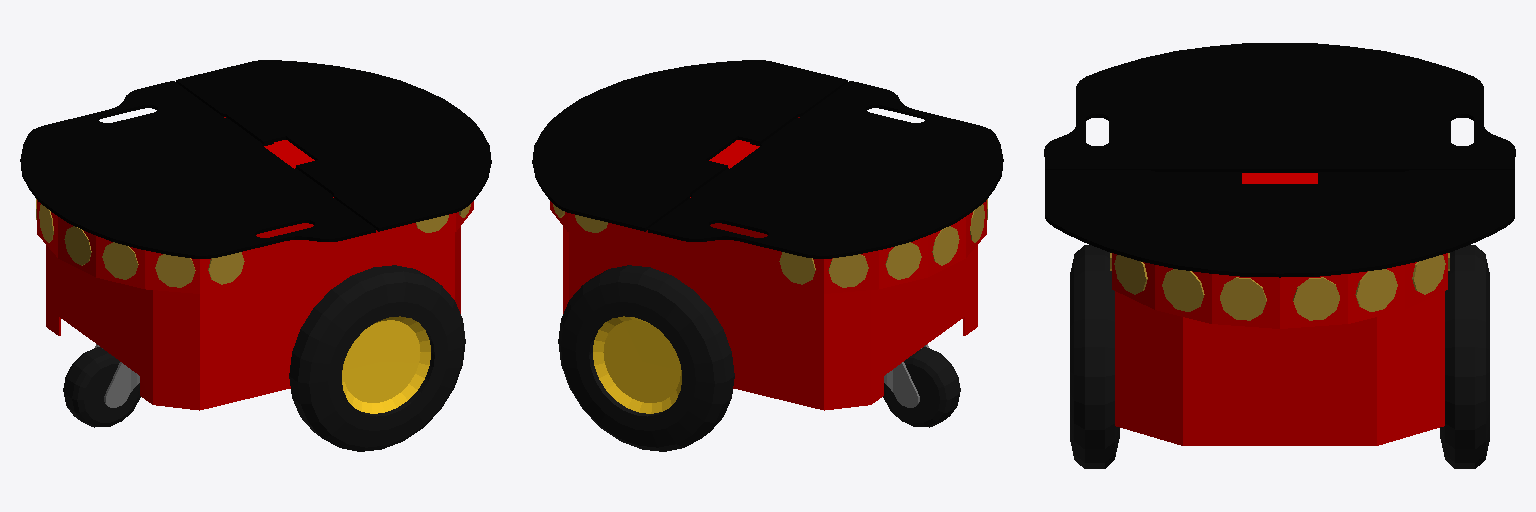
The robot description file, URDF, robot "pioneer3dx":
<?xml version="1.0" ?>
<!-- =================================================================================== -->
<!-- |    This document was autogenerated by xacro from pioneer3dx.urdf.xacro          | -->
<!-- |    EDITING THIS FILE BY HAND IS NOT RECOMMENDED                                 | -->
<!-- =================================================================================== -->
<robot name="pioneer3dx" xmlns:controller="http://playerstage.sourceforge.net/gazebo/xmlschema/#controller" xmlns:interface="http://playerstage.sourceforge.net/gazebo/xmlschema/#interface" xmlns:sensor="http://playerstage.sourceforge.net/gazebo/xmlschema/#sensor" xmlns:xacro="http://ros.org/wiki/xacro">
  <!--<include filename="$(find amr_robots_description)/urdf/materials.xacro"/>-->
  <!-- Chassis -->
  <link name="base_link">
    <inertial>
      <mass value="3.5"/>
      <!--<origin xyz="-0.025 0 -0.223"/>-->
      <origin xyz="0 0 0"/>
      <inertia ixx="1" ixy="0" ixz="0" iyy="1" iyz="0" izz="1"/>
    </inertial>
    <visual>
      <origin rpy="0 0 0" xyz="-0.045 0 0.148"/>
      <geometry name="pioneer_geom">
        <mesh filename="package://amr_robots_description/meshes/p3dx_meshes/chassis.dae"/>
      </geometry>
      <material name="ChassisRed">
        <color rgba="0.851 0.0 0.0 1.0"/>
      </material>
    </visual>
    <collision>
      <origin rpy="0 0 0" xyz="0 0 0"/>
      <geometry>
        <box size="0.01 0.01 0.01"/>
      </geometry>
    </collision>
  </link>
  <link name="top_plate">
    <inertial>
      <mass value="0.01"/>
      <origin xyz="0 0 0"/>
      <inertia ixx="1" ixy="0" ixz="0" iyy="1" iyz="0" izz="1"/>
    </inertial>
    <visual name="pioneer_geom">
      <origin rpy="0 0 0" xyz="0 0 0"/>
      <geometry name="pioneer_geom">
        <mesh filename="package://amr_robots_description/meshes/p3dx_meshes/top.dae"/>
      </geometry>
      <material name="TopBlack">
        <color rgba="0.038 0.038 0.038 1.0"/>
      </material>
    </visual>
  </link>
  <gazebo reference="top_plate">
    <!-- material value="Gazebo/Black"/ -->
    <material>Gazebo/Black</material>
  </gazebo>
  <joint name="base_top_joint" type="fixed">
    <origin rpy="0 0 0" xyz="-0.045 0 0.234"/>
    <axis xzy="0 0 1"/>
    <parent link="base_link"/>
    <child link="top_plate"/>
  </joint>
  <link name="front_sonar">
    <inertial>
      <mass value="0.0001"/>
      <origin xyz="0 0 0"/>
      <inertia ixx="1" ixy="0" ixz="0" iyy="1" iyz="0" izz="1"/>
    </inertial>
    <visual name="pioneer_geom">
      <origin rpy="0 0 0" xyz="0 0 0"/>
      <geometry name="pioneer_geom">
        <mesh filename="package://amr_robots_description/meshes/p3dx_meshes/front_sonar.dae"/>
      </geometry>
      <material name="SonarYellow">
        <color rgba="0.715 0.583 0.210 1.0"/>
      </material>
    </visual>
    <collision>
      <origin rpy="0 0 0" xyz="0 0 0"/>
      <geometry>
        <box size="0 0 0"/>
      </geometry>
    </collision>
  </link>
  <gazebo reference="front_sonar">
    <material value="Gazebo/Yellow"/>
  </gazebo>
  <joint name="base_front_joint" type="fixed">
    <origin rpy="0 0 0" xyz="-0.198 0 0.208"/>
    <parent link="base_link"/>
    <child link="front_sonar"/>
  </joint>
  <joint name="base_back_joint" type="fixed">
    <origin rpy="0 0 0" xyz="0.109 0 0.209"/>
    <parent link="base_link"/>
    <child link="back_sonar"/>
  </joint>
  <link name="back_sonar">
    <inertial>
      <mass value="0"/>
      <origin xyz="0 0 0"/>
      <inertia ixx="1" ixy="0" ixz="0" iyy="1" iyz="0" izz="1"/>
    </inertial>
    <visual name="base_visual">
      <origin rpy="0 0 0" xyz="0 0 0"/>
      <geometry name="pioneer_geom">
        <mesh filename="package://amr_robots_description/meshes/p3dx_meshes/back_sonar.dae"/>
      </geometry>
      <material name="SonarYellow">
        <color rgba="0.715 0.583 0.210 1.0"/>
      </material>
    </visual>
    <collision>
      <origin rpy="0 0 0" xyz="0 0 0"/>
      <geometry>
        <box size="0 0 0"/>
      </geometry>
    </collision>
  </link>
  <!-- Caster -->
  <joint name="base_caster_swivel_joint" type="continuous">
    <origin rpy="0 0 0" xyz="-0.185 0 0.055"/>
    <anchor xyz="0 0 0"/>
    <limit effort="100" k_velocity="0" velocity="100"/>
    <joint_properties damping="0.0" friction="0.0"/>
    <parent link="base_link"/>
    <child link="caster_swivel"/>
  </joint>
  <link name="caster_swivel">
    <inertial>
      <mass value="0.1"/>
      <origin xyz="0 0 0"/>
      <inertia ixx="0.01" ixy="0" ixz="0" iyy="0.01" iyz="0" izz="0.01"/>
    </inertial>
    <visual name="pioneer_geom">
      <origin rpy="0 0 0" xyz="0 0 0"/>
      <geometry name="pioneer_geom">
        <mesh filename="package://amr_robots_description/meshes/p3dx_meshes/caster_swivel.dae"/>
      </geometry>
      <material name="caster_swivel">
        <color rgba="0.5 0.5 0.5 1"/>
      </material>
    </visual>
    <collision>
      <origin rpy="0 0 0" xyz="0 0 0"/>
      <geometry>
        <box size="0 0 0"/>
      </geometry>
    </collision>
  </link>
  <gazebo reference="caster_swivel">
    <material value="Gazebo/Grey"/>
  </gazebo>
  <!-- Center Wheel + Hubcap -->
  <link name="caster_hubcap">
    <inertial>
      <mass value="0.01"/>
      <origin xyz="0 0 0"/>
      <inertia ixx="0.012411765597" ixy="-0.000711733678" ixz="0.00050272983" iyy="0.015218160428" iyz="-0.000004273467" izz="0.011763977943"/>
    </inertial>
    <visual name="pioneer_geom">
      <origin rpy="0 0 0" xyz="0 0 0"/>
      <geometry name="pioneer_geom">
        <mesh filename="package://amr_robots_description/meshes/p3dx_meshes/caster_hubcap.dae"/>
      </geometry>
      <material name="caster_swivel">
        <color rgba="0.5 0.5 0.5 1"/>
      </material>
    </visual>
    <collision>
      <origin rpy="0 0 0" xyz="0 0 0"/>
      <geometry>
        <box size="0.05 0.05 0.05"/>
      </geometry>
    </collision>
  </link>
  <gazebo reference="caster_hubcap">
    <material value="Gazebo/Grey"/>
  </gazebo>
  <joint name="caster_swivel_hubcap_joint" type="continuous">
    <origin rpy="0 0 0" xyz="-0.026 0 -0.016"/>
    <axis xyz="0 1 0"/>
    <anchor xyz="0 0 0"/>
    <limit effort="100" k_velocity="0" velocity="100"/>
    <joint_properties damping="0.0" friction="0.0"/>
    <parent link="caster_swivel"/>
    <child link="caster_wheel"/>
  </joint>
  <link name="caster_wheel">
    <inertial>
      <mass value="0.1"/>
      <origin xyz="0 0 0"/>
      <inertia ixx="0.012411765597" ixy="-0.000711733678" ixz="0.00050272983" iyy="0.015218160428" iyz="-0.000004273467" izz="0.011763977943"/>
    </inertial>
    <visual name="pioneer_geom">
      <origin rpy="0 0 0" xyz="0 0 0"/>
      <geometry name="pioneer_geom">
        <mesh filename="package://amr_robots_description/meshes/p3dx_meshes/caster_wheel.dae"/>
      </geometry>
      <material name="WheelBlack">
        <color rgba="0.117 0.117 0.117 1"/>
      </material>
    </visual>
    <collision>
      <origin rpy="-1.57079635 0 0" xyz="0 0 0"/>
      <geometry>
        <!--<mesh filename="package://amr_robots_description/meshes/p3dx_meshes/caster_wheel.dae"/>-->
        <cylinder length="0.01" radius="0.0375"/>
      </geometry>
    </collision>
  </link>
  <gazebo reference="left_hub">
    <material value="Gazebo/Yellow"/>
  </gazebo>
  <joint name="caster_wheel_joint" type="fixed">
    <origin rpy="0 0 0" xyz="-0.0035 0 -0.001"/>
    <parent link="caster_wheel"/>
    <child link="caster_hubcap"/>
  </joint>
  <link name="left_hub">
    <visual>
      <origin rpy="0 0 0" xyz="0 0 0"/>
      <geometry>
        <mesh filename="package://amr_robots_description/meshes/p3dx_meshes/left_hubcap.dae"/>
      </geometry>
      <material name="HubcapYellow">
        <color rgba="1.0 0.811 0.151 1.0"/>
      </material>
    </visual>
    <collision>
      <origin rpy="-1.57079635 0 0" xyz="0 0 0"/>
      <geometry>
        <!--<mesh filename="package://amr_robots_description/meshes/p3dx_meshes/caster_wheel.dae"/>-->
        <cylinder length="0.01" radius="0.09"/>
      </geometry>
    </collision>
  </link>
  <joint name="left_hub_joint" type="fixed">
    <origin rpy="0 0 0" xyz="0 0.15 0.08"/>
    <parent link="base_link"/>
    <child link="left_hub"/>
    <axis xyz="0 1 0"/>
  </joint>
  <link name="left_wheel">
    <visual>
      <origin rpy="0 0 0" xyz="0 0 0"/>
      <geometry>
        <mesh filename="package://amr_robots_description/meshes/p3dx_meshes/left_wheel.dae"/>
      </geometry>
      <material name="WheelBlack">
        <color rgba="0.117 0.117 0.117 1"/>
      </material>
    </visual>
  </link>
  <joint name="left_wheel_joint" type="fixed">
    <!-- type="continuous" -->
    <origin rpy="0 0 0" xyz="0 0 0"/>
    <parent link="left_hub"/>
    <child link="left_wheel"/>
  </joint>
  <gazebo reference="left_wheel_joint">
    <material value="Gazebo/Black"/>
  </gazebo>
  <link name="right_hub">
    <visual>
      <origin rpy="0 0 0" xyz="0 0 0"/>
      <geometry>
        <mesh filename="package://amr_robots_description/meshes/p3dx_meshes/right_hubcap.dae"/>
      </geometry>
      <material name="HubcapYellow">
        <color rgba="1.0 0.811 0.151 1.0"/>
      </material>
    </visual>
    <collision>
      <origin rpy="-1.57079635 0 0" xyz="0 0 0"/>
      <geometry>
        <!--<mesh filename="package://amr_robots_description/meshes/p3dx_meshes/caster_wheel.dae"/>-->
        <cylinder length="0.01" radius="0.09"/>
      </geometry>
    </collision>
  </link>
  <gazebo reference="right_hub">
    <material value="Gazebo/Yellow"/>
  </gazebo>
  <joint name="right_hub_joint" type="fixed">
    <origin rpy="0 0 0" xyz="0 -0.15 0.08"/>
    <parent link="base_link"/>
    <child link="right_hub"/>
    <axis xyz="0 1 0"/>
  </joint>
  <link name="right_wheel">
    <visual>
      <origin rpy="0 0 0" xyz="0 0 0"/>
      <geometry>
        <mesh filename="package://amr_robots_description/meshes/p3dx_meshes/right_wheel.dae"/>
      </geometry>
      <material name="WheelBlack">
        <color rgba="0.117 0.117 0.117 1"/>
      </material>
    </visual>
  </link>
  <joint name="right_wheel_joint" type="fixed">
    <!-- type="continuous" -->
    <origin rpy="0 0 0" xyz="0 0 0"/>
    <parent link="right_hub"/>
    <child link="right_wheel"/>
  </joint>
  <gazebo reference="right_wheel_joint">
    <material value="Gazebo/Black"/>
  </gazebo>
  <create>
    <back_sonar parent="base_link"/>
    <top_plate parent="base_link"/>
  </create>
  <gazebo>
    <plugin filename="libgazebo_ros_diff_drive.so" name="differential_drive_controller">
      <alwaysOn>true</alwaysOn>
      <updateRate>100</updateRate>
      <leftJoint>left_wheel_joint</leftJoint>
      <rightJoint>right_wheel_joint</rightJoint>
      <wheelSeparation>0.158</wheelSeparation>
      <wheelDiameter>0.12</wheelDiameter>
      <torque>5</torque>
      <!-- interface:position name="position_iface_0"/ -->
      <commandTopic>cmd_vel</commandTopic>
      <robotBaseFrame>base_link</robotBaseFrame>
      <odometryTopic>odom</odometryTopic>
      <odometryFrame>odom</odometryFrame>
    </plugin>
    <!-- TODO include P3D (ground truth) plugin -->
    <!-- XXX old urdf included a gazebo_ros_controller_manager plugin with a 1 second update rate -->
  </gazebo>
</robot>

--- Facts derived from the render (not from the file) ---
3 views of the same robot in one strip: view 1: azimuth 30°, elevation 25°; view 2: azimuth 150°, elevation 25°; view 3: azimuth 270°, elevation 25° (orthographic).
Model pioneer3dx with 11 links and 10 joints (2 continuous, 8 fixed), rooted at base_link, posed every joint at zero.
Links seen in each view (by area): view 1: top_plate, base_link, right_wheel, right_hub, front_sonar, caster_wheel, caster_swivel; view 2: top_plate, base_link, left_wheel, left_hub, front_sonar, caster_wheel, caster_swivel; view 3: top_plate, base_link, left_wheel, right_wheel, back_sonar.
Link boxes in pixels (x1,y1,x2,y2): top_plate: [20, 60, 491, 258]; base_link: [37, 117, 473, 410]; right_wheel: [289, 265, 465, 451]; right_hub: [342, 316, 430, 413]; front_sonar: [36, 199, 244, 287]; caster_wheel: [63, 347, 140, 427]; caster_swivel: [95, 344, 139, 407]; top_plate: [532, 60, 1003, 258]; base_link: [550, 117, 986, 410]; left_wheel: [558, 265, 734, 451]; left_hub: [593, 316, 681, 413]; front_sonar: [779, 199, 987, 287]; caster_wheel: [883, 347, 960, 427]; caster_swivel: [884, 344, 928, 407]; top_plate: [1044, 43, 1515, 277]; base_link: [1112, 173, 1447, 445]; left_wheel: [1440, 245, 1489, 468]; right_wheel: [1070, 245, 1119, 468]; back_sonar: [1110, 253, 1449, 320].
Bounding box of the posed robot: 0.4422 × 0.3812 × 0.2478 m (x, y, z).
Meshes: 11 distinct files referenced, 10 mesh visuals loaded (10 Collada DAE); not drawn: 1 (reference not matched to a file when rendering).